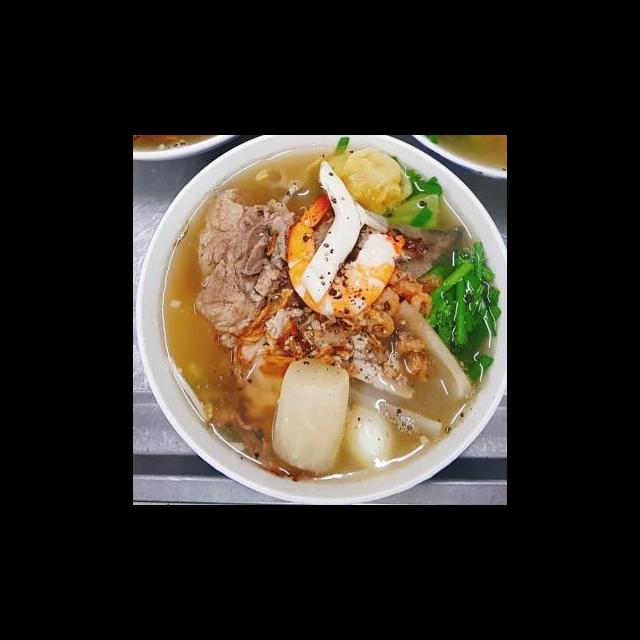gan: (294, 200, 469, 294)
muc: (297, 154, 371, 306)
thit heo: (192, 180, 300, 356)
tom: (279, 189, 405, 324)
trung: (343, 402, 401, 474)
